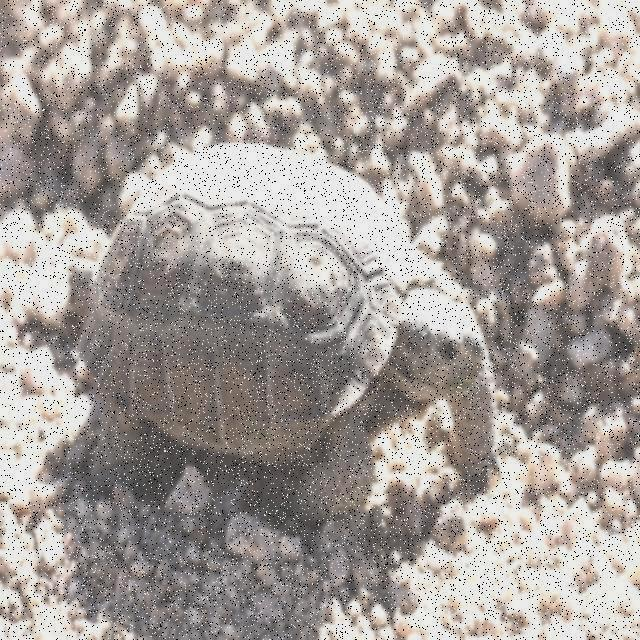tortoise: (37, 150, 535, 530)
